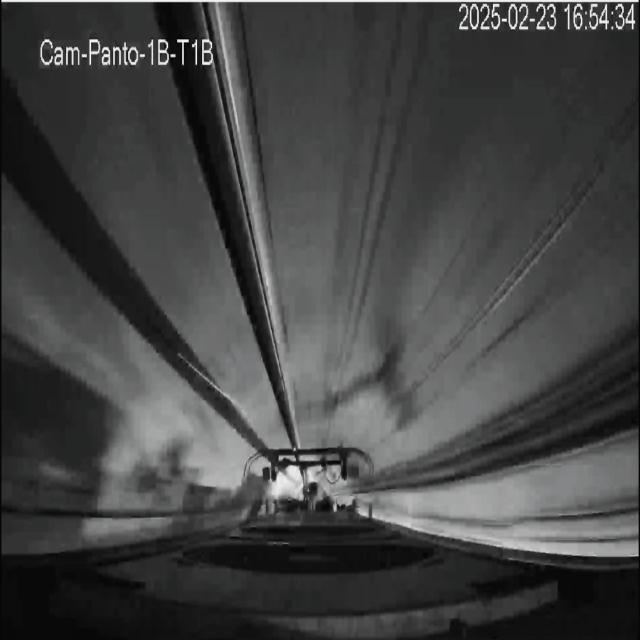Camera Stamp: (40, 34, 219, 69)
Date Stamp: (458, 3, 635, 33)
Sparks: (179, 351, 260, 438), (242, 449, 275, 483), (292, 446, 298, 453)
